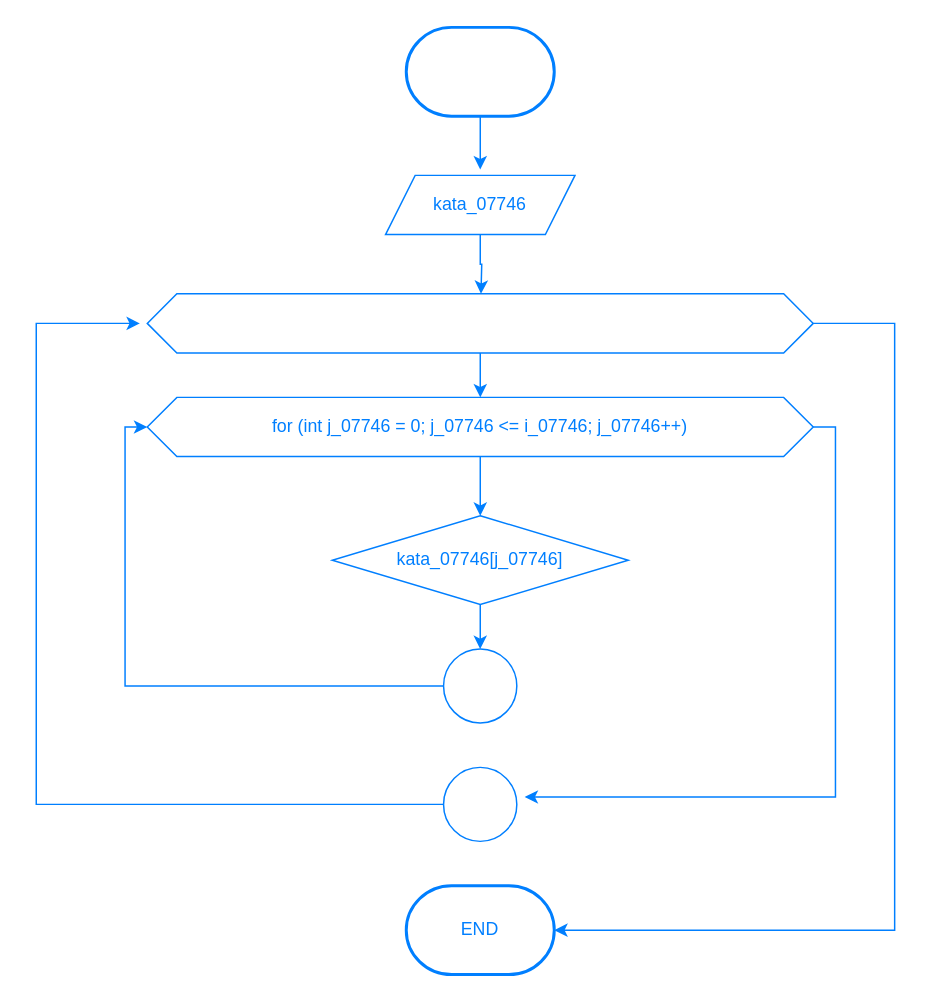
Image size: 932x1000. Some labels were removed from this diagram. The centre of each missing label's shape, as x and y in pixels:
"for (int i_07746 = 0; i_07746 < kata_07746.length(); i_07746++)" goes at point 479,322.
"START" goes at point 479,71.
